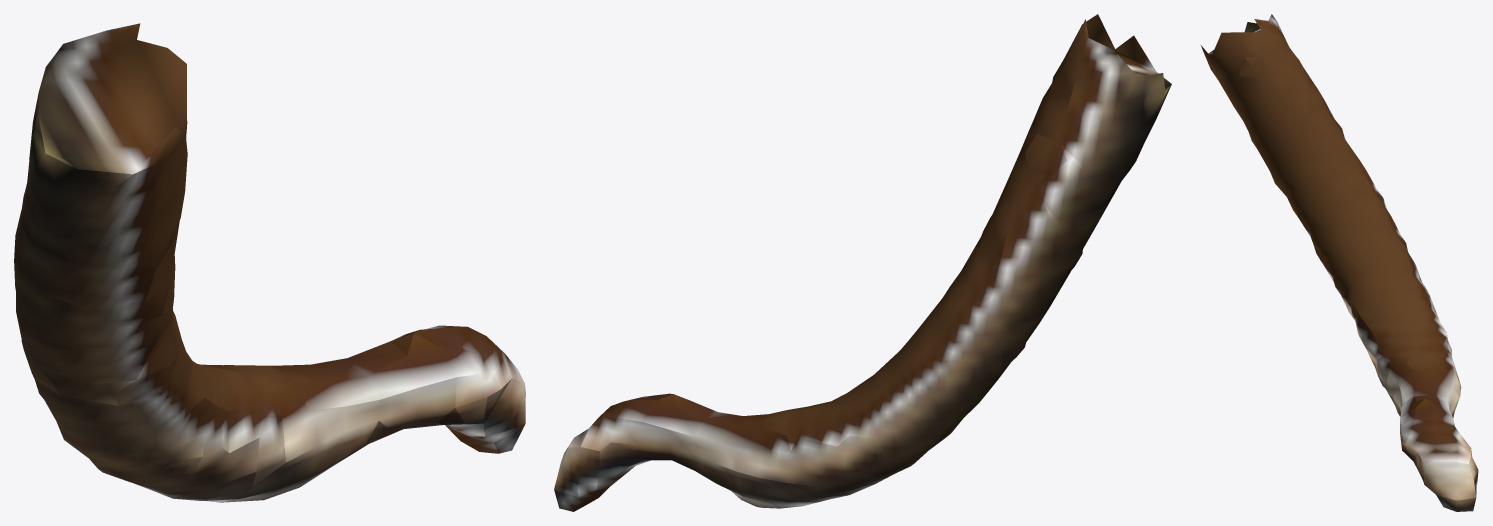
The model's file is Dragon_Whisker_B.glb.
The picture shows the model from 3 angles, left to right: view 1: azimuth 30°, elevation 25°; view 2: azimuth 150°, elevation 25°; view 3: azimuth 270°, elevation 25°; orthographic projection. The views are drawn at different scales.
Parts seen in each view (by area): view 1: Dragon_Whisker_B; view 2: Dragon_Whisker_B; view 3: Dragon_Whisker_B.
Boxes of the visible parts, x1=… form: Dragon_Whisker_B: x1=14, y1=23, x2=525, y2=502; Dragon_Whisker_B: x1=554, y1=14, x2=1171, y2=511; Dragon_Whisker_B: x1=1201, y1=14, x2=1478, y2=511.
Bounding box in the file's own units: 0.0262 × 0.0257 × 0.0183.
Materials: 1 (1 with a texture image).
